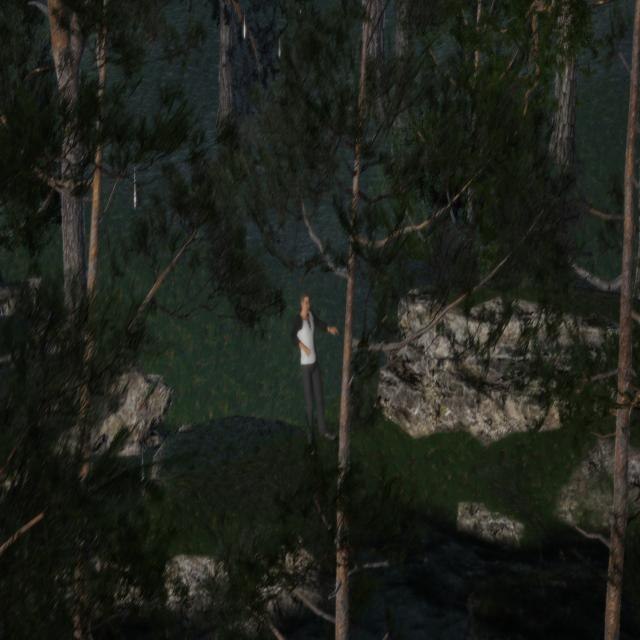Human: (285, 285, 345, 457)
